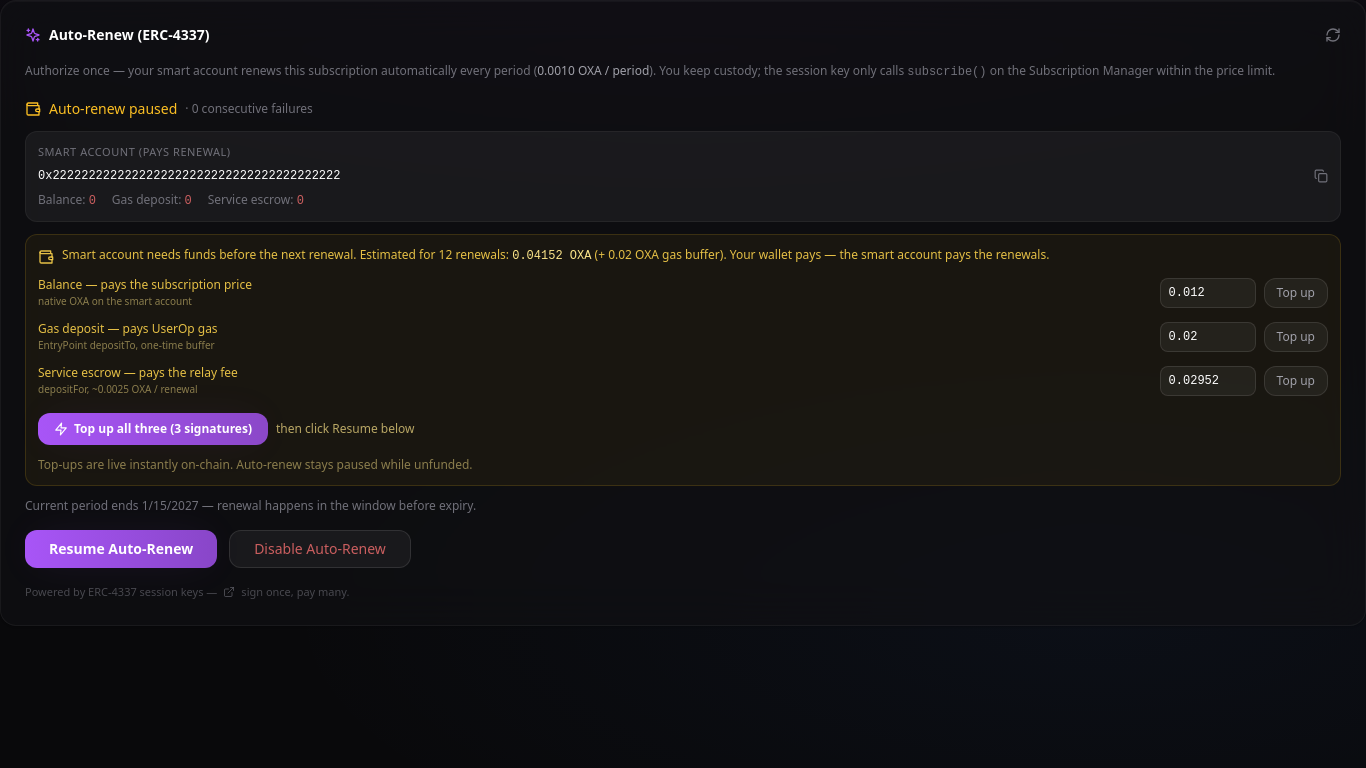
Test: 充值 — doTopUp 分支 › 输入 0 → 金额必须大于 0
Expected: the text "Smart account needs funds" is shown, [62,246,509,263]
Replace the text in the number field named "Balance — pays the subscription price" with "0" at (1208, 293), box [1160,278,1256,308]
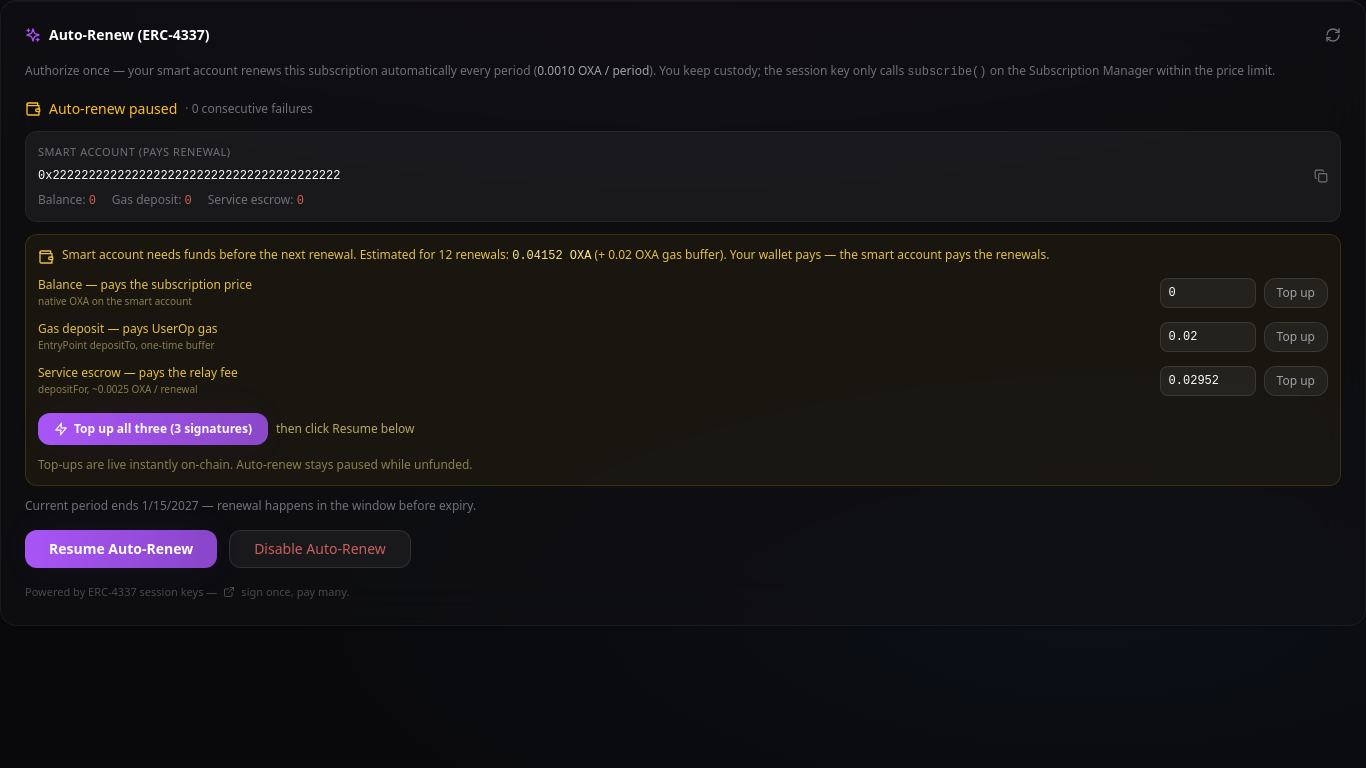
Click the button "Top up" in the row of "Balance — pays the subscription price" at (1296, 293), box [1264,278,1328,308]
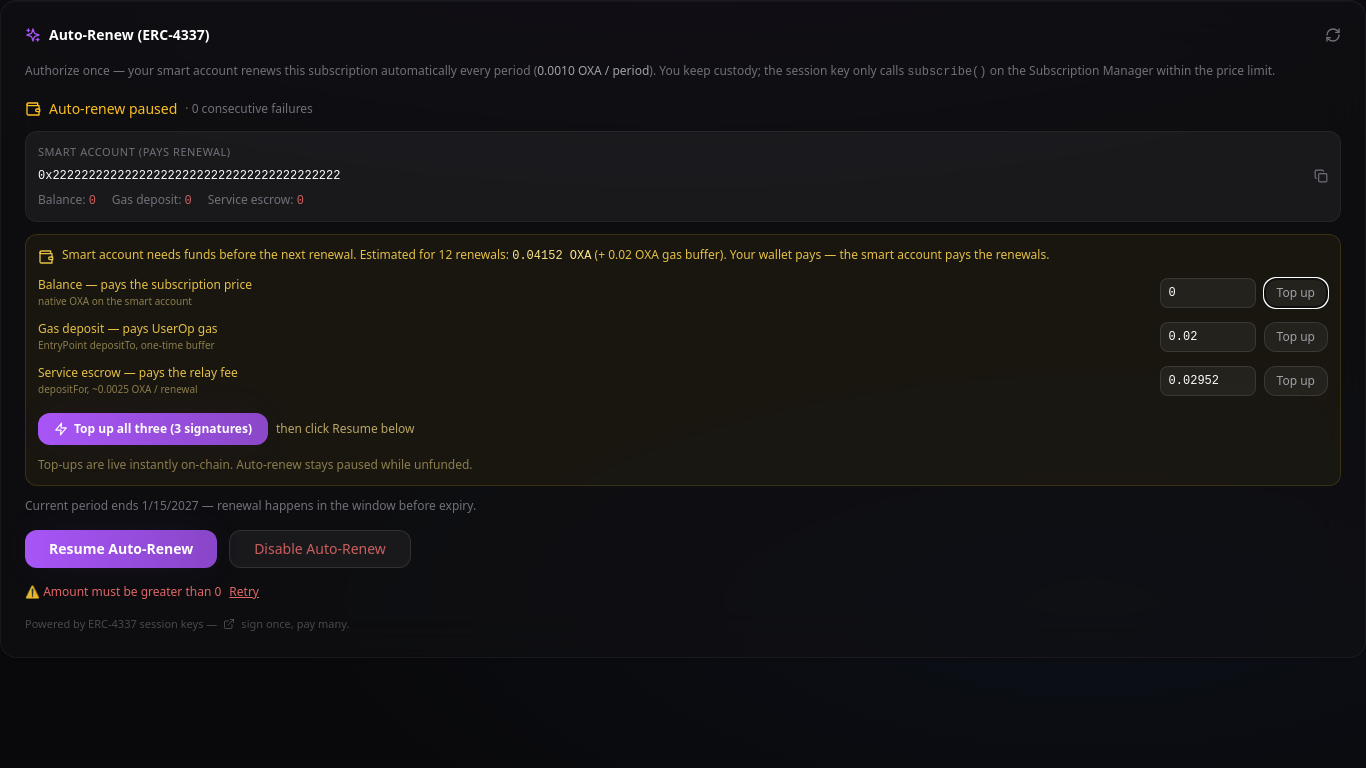
Expected: the text "⚠ Amount must be greater than 0" is shown, [25,584,221,600]
